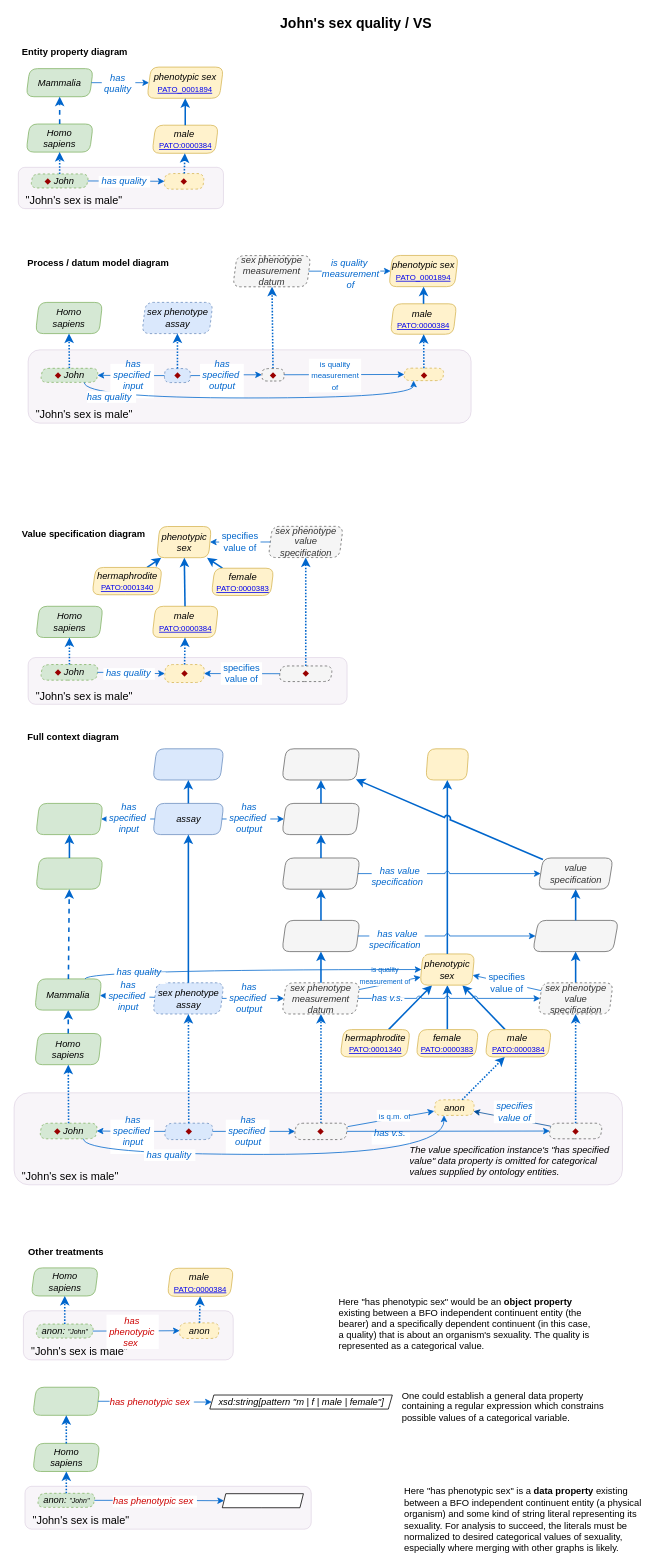
Image size: 665x1566. Some labels were removed from this diagram. The shapes that lost their labels are listed below. From the top down, each one's box as (x1, y1, x2, y2) in pixels, then its label:
(152, 748, 224, 780): planned process
(281, 748, 360, 780): information content entity
(425, 748, 469, 780): quality
(35, 803, 103, 835): material entity
(281, 803, 360, 835): data item
(35, 857, 103, 889): Organism
(281, 857, 360, 889): measurement datum
(281, 920, 360, 952): categorical measurement datum
(532, 920, 619, 952): categorical value specification
(32, 1386, 100, 1415): Mammal
(222, 1493, 303, 1508): "m"^^xsd:string
